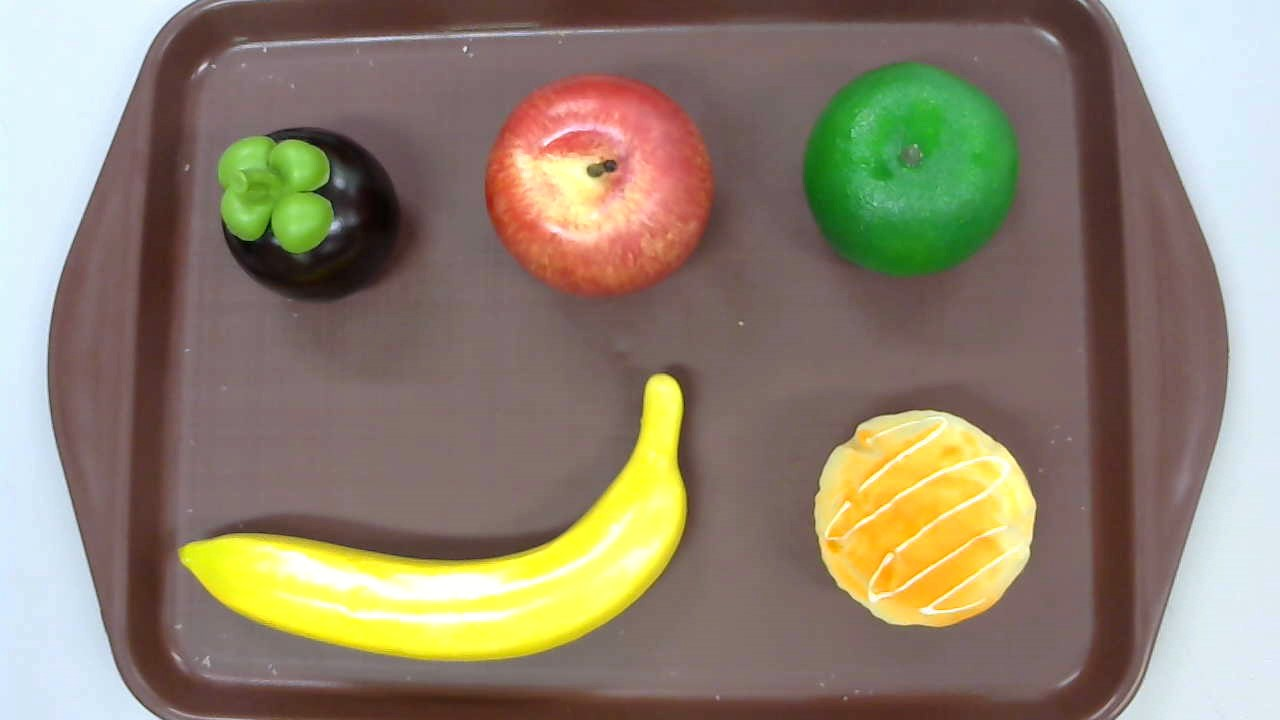banana: (177, 372, 687, 661)
cupcake: (814, 408, 1036, 628)
green orange: (803, 61, 1019, 278)
mangosteen: (216, 127, 400, 303)
red apple: (485, 73, 715, 302)
